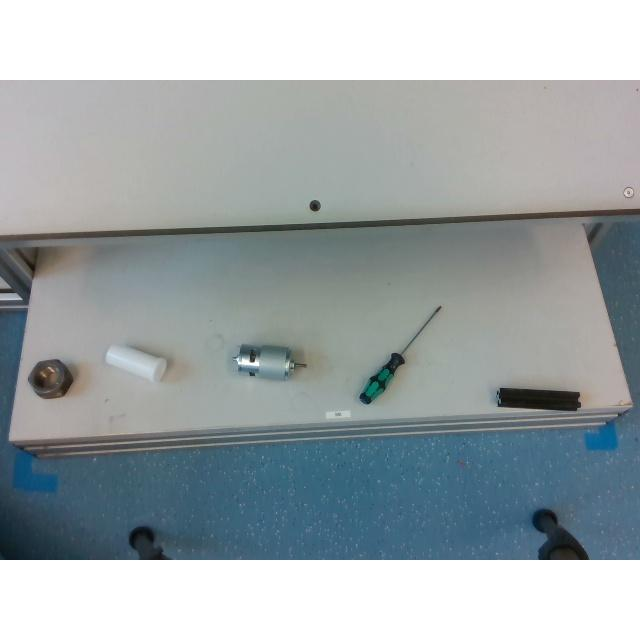F20_20_B: (496, 387, 580, 409)
M30: (28, 359, 72, 397)
Motor2: (233, 344, 305, 380)
Screwdriver: (360, 305, 440, 403)
Spacer: (106, 344, 166, 380)
